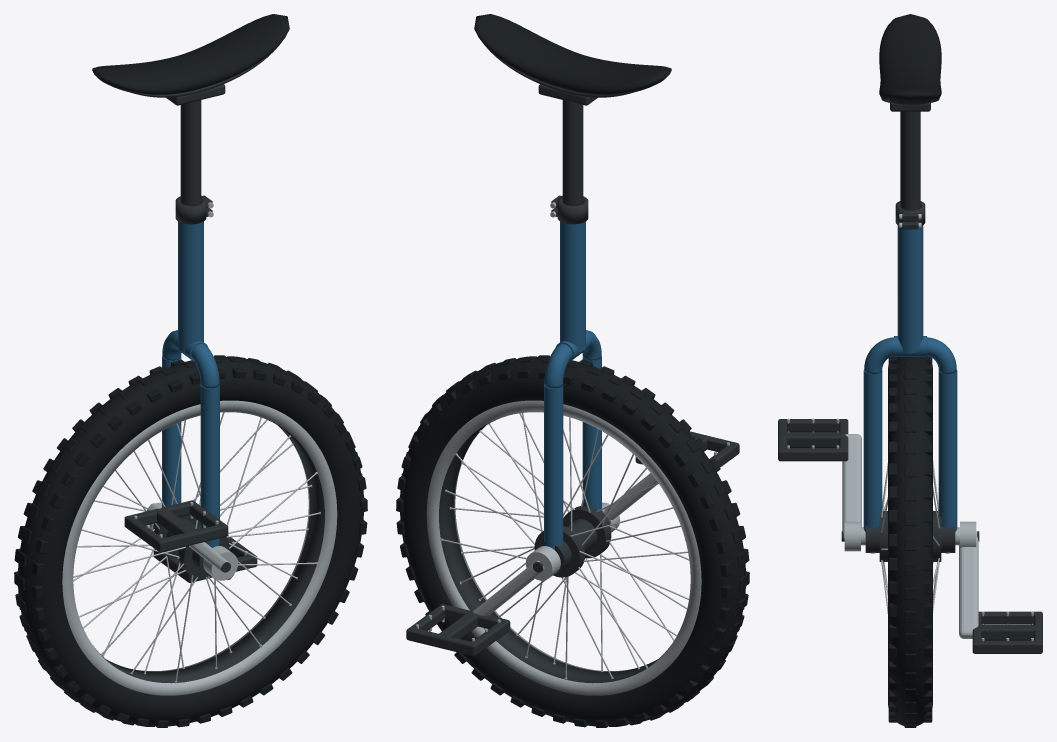
3 views of the same model, side by side, from view 1: azimuth 30°, elevation 25°; view 2: azimuth 150°, elevation 25°; view 3: azimuth 270°, elevation 25° (orthographic). The views are drawn at different scales.
Parts seen in each view (by area): view 1: Thick tire carcass, Double wall alloy rim, Curved black saddle cushion, Dark inner rim bed, Seatpost frame neck, Fork straight leg -1, Exposed seatpost, Fork straight leg 1, Fork shoulder -1, Pedal end rail (-1, -0.041), Pedal outer rail (-1, -0.046), Seatpost clamp ring (+2 smaller); view 2: Thick tire carcass, Double wall alloy rim, Curved black saddle cushion, Dark inner rim bed, Seatpost frame neck, Fork straight leg 1, Exposed seatpost, Fork straight leg -1, Hub flange -1, Alloy crank arm 1, Fork shoulder 1, Hub flange 1 (+6 smaller); view 3: Thick tire carcass, Curved black saddle cushion, Seatpost frame neck, Fork straight leg 1, Fork straight leg -1, Exposed seatpost, Alloy crank arm 1, Alloy crank arm -1, Pedal outer rail (-1, 0.046), Pedal outer rail (1, 0.046), Pedal center spindle bridge -1, Pedal center spindle bridge 1 (+6 smaller).
Boxes of the visible parts, <box> form: Thick tire carcass: <box>18,357,363,725</box>; Double wall alloy rim: <box>62,400,337,695</box>; Curved black saddle cushion: <box>92,14,289,94</box>; Dark inner rim bed: <box>93,418,324,683</box>; Seatpost frame neck: <box>178,221,203,352</box>; Fork straight leg -1: <box>200,385,219,547</box>; Exposed seatpost: <box>180,100,201,205</box>; Fork straight leg 1: <box>162,356,181,507</box>; Fork shoulder -1: <box>191,343,219,388</box>; Pedal end rail (-1, -0.041): <box>163,524,222,551</box>; Pedal outer rail (-1, -0.046): <box>124,515,166,552</box>; Seatpost clamp ring: <box>175,196,206,224</box>; Thick tire carcass: <box>400,357,745,725</box>; Double wall alloy rim: <box>426,400,701,695</box>; Curved black saddle cushion: <box>474,14,671,94</box>; Dark inner rim bed: <box>439,418,670,683</box>; Seatpost frame neck: <box>560,221,585,352</box>; Fork straight leg 1: <box>544,385,563,549</box>; Exposed seatpost: <box>562,100,583,205</box>; Fork straight leg -1: <box>582,356,601,513</box>; Hub flange -1: <box>563,506,611,558</box>; Alloy crank arm 1: <box>472,560,544,615</box>; Fork shoulder 1: <box>544,343,572,388</box>; Hub flange 1: <box>534,526,585,577</box>; Thick tire carcass: <box>888,357,932,726</box>; Curved black saddle cushion: <box>879,14,941,104</box>; Seatpost frame neck: <box>897,225,923,353</box>; Fork straight leg 1: <box>938,369,957,531</box>; Fork straight leg -1: <box>863,369,882,531</box>; Exposed seatpost: <box>900,111,920,209</box>; Alloy crank arm 1: <box>959,531,978,638</box>; Alloy crank arm -1: <box>842,434,861,539</box>; Pedal outer rail (-1, 0.046): <box>778,448,848,461</box>; Pedal outer rail (1, 0.046): <box>972,640,1042,653</box>; Pedal center spindle bridge -1: <box>780,432,845,447</box>; Pedal center spindle bridge 1: <box>975,625,1040,640</box>.
Bounding box in the file's own units: 51.2 × 97.59 × 35.4.
